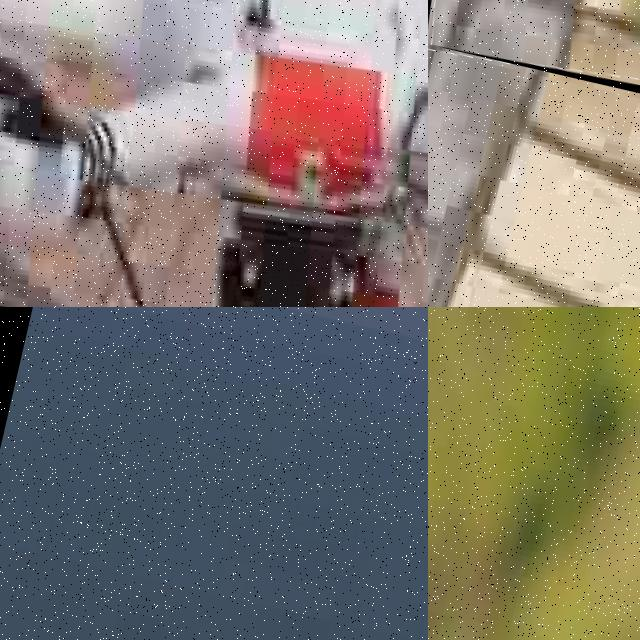drone: (0, 0, 428, 307), (428, 0, 640, 119)
